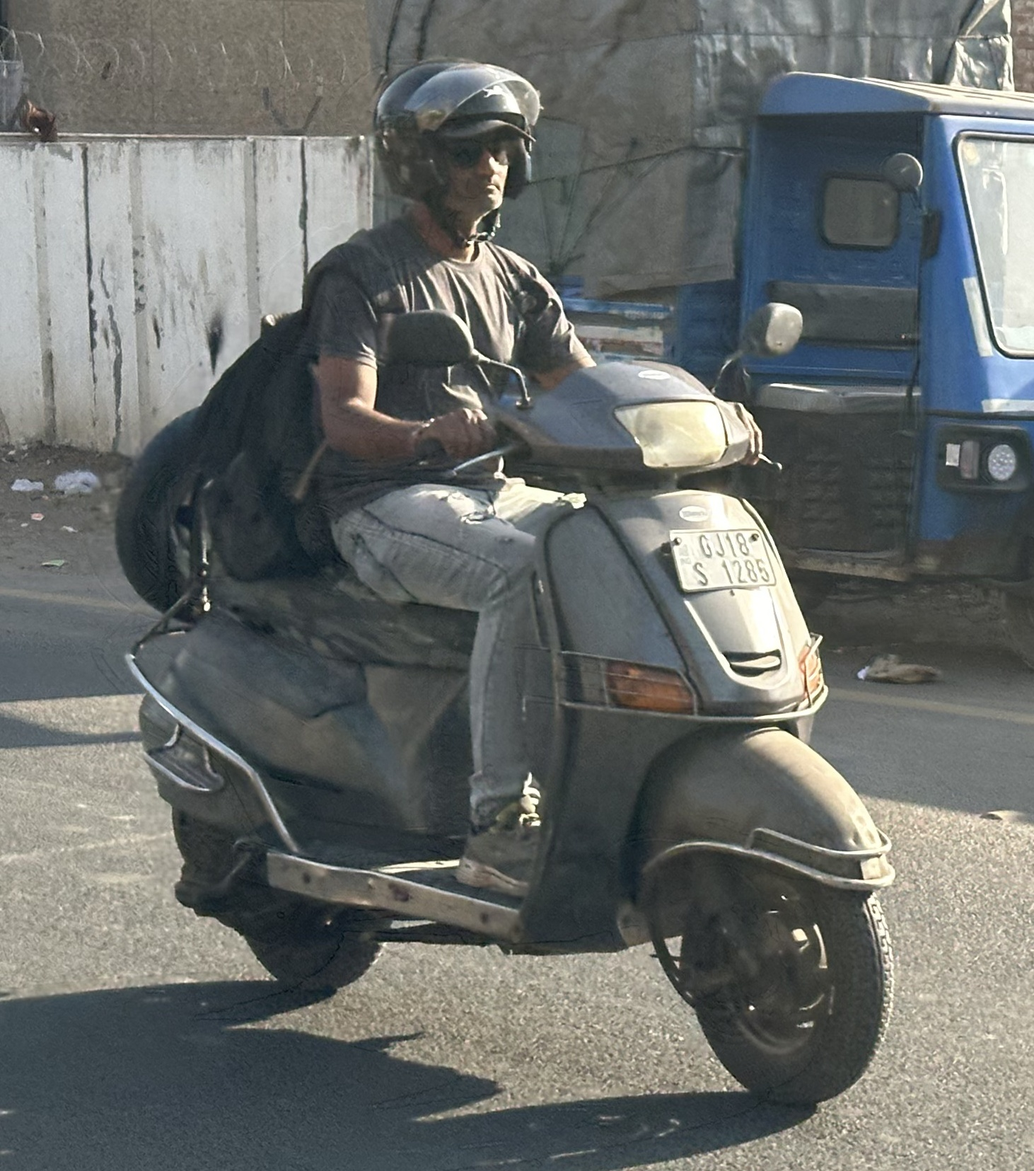BikeWithRider: (100, 45, 912, 1121)
NoHelmet: (356, 49, 554, 245)
